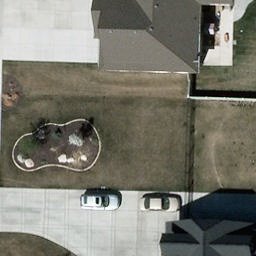car: (75, 193, 125, 213), (138, 194, 182, 214)
